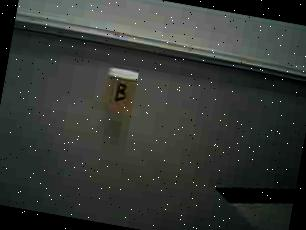Bottle B: (93, 59, 151, 126)
